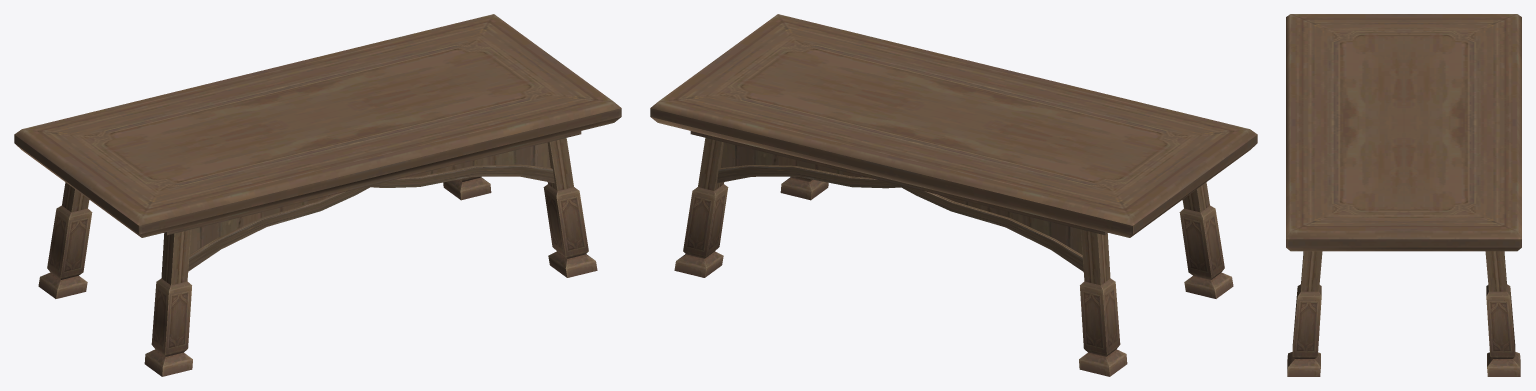
File: Homeworld_Interior_Xm_Table_Prop_NormalTable_01_Lod0.fbx
3 views of the same model, side by side, from view 1: azimuth 30°, elevation 25°; view 2: azimuth 150°, elevation 25°; view 3: azimuth 270°, elevation 25° (orthographic). The views are drawn at different scales.
Parts seen in each view (by area): view 1: Area_Xm_Prop_XKC_Table_01_Lod0; view 2: Area_Xm_Prop_XKC_Table_01_Lod0; view 3: Area_Xm_Prop_XKC_Table_01_Lod0.
Part boxes in pixels (left/top/right/bottom): Area_Xm_Prop_XKC_Table_01_Lod0: left=14, top=14, right=621, bottom=376; Area_Xm_Prop_XKC_Table_01_Lod0: left=650, top=14, right=1257, bottom=376; Area_Xm_Prop_XKC_Table_01_Lod0: left=1286, top=14, right=1521, bottom=376.
Size of the model in its own units: 2.37 by 0.7654 by 1.06.
